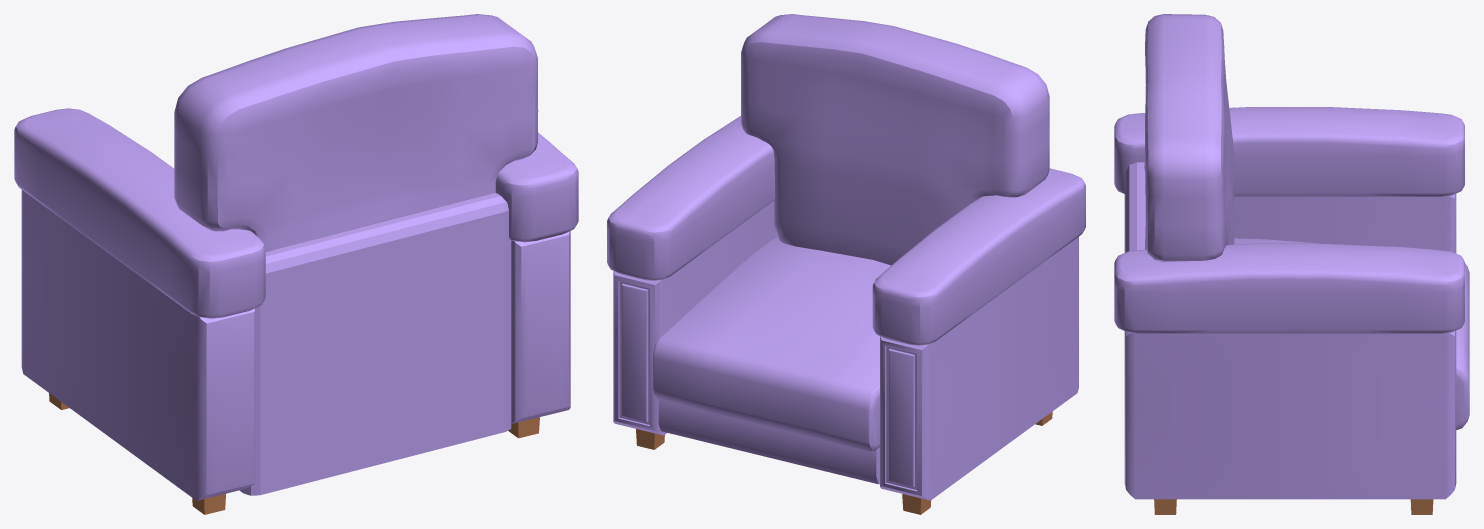
Rendered from Chair_Single_09.glb.
The picture shows the model from 3 angles, left to right: view 1: azimuth 30°, elevation 25°; view 2: azimuth 150°, elevation 25°; view 3: azimuth 270°, elevation 25°; orthographic projection. The views are drawn at different scales.
Visible parts, largest first — view 1: Mesh_Chair_Single_09; view 2: Mesh_Chair_Single_09; view 3: Mesh_Chair_Single_09.
Part boxes in pixels (box(x1,y1,x2,y2)): Mesh_Chair_Single_09: box(14, 14, 578, 514); Mesh_Chair_Single_09: box(607, 14, 1085, 514); Mesh_Chair_Single_09: box(1114, 14, 1469, 514).
Size of the model in its own units: 0.6656 by 0.693 by 0.5928.
1 material, 1 textured.
